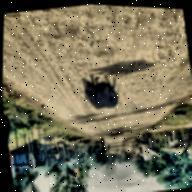boar: (80, 72, 121, 113)
